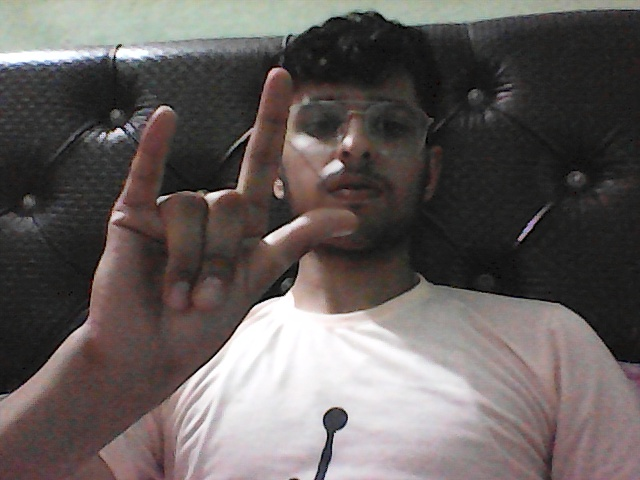iloveyou: (67, 52, 364, 442)
